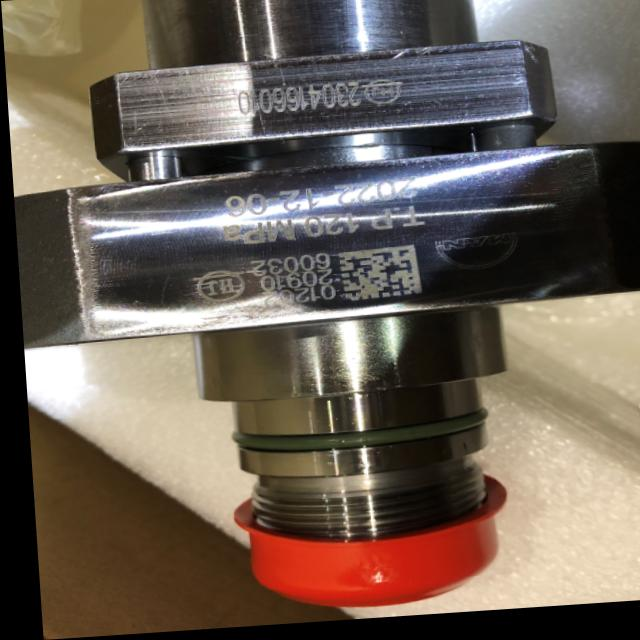dmc: (333, 250, 416, 305)
